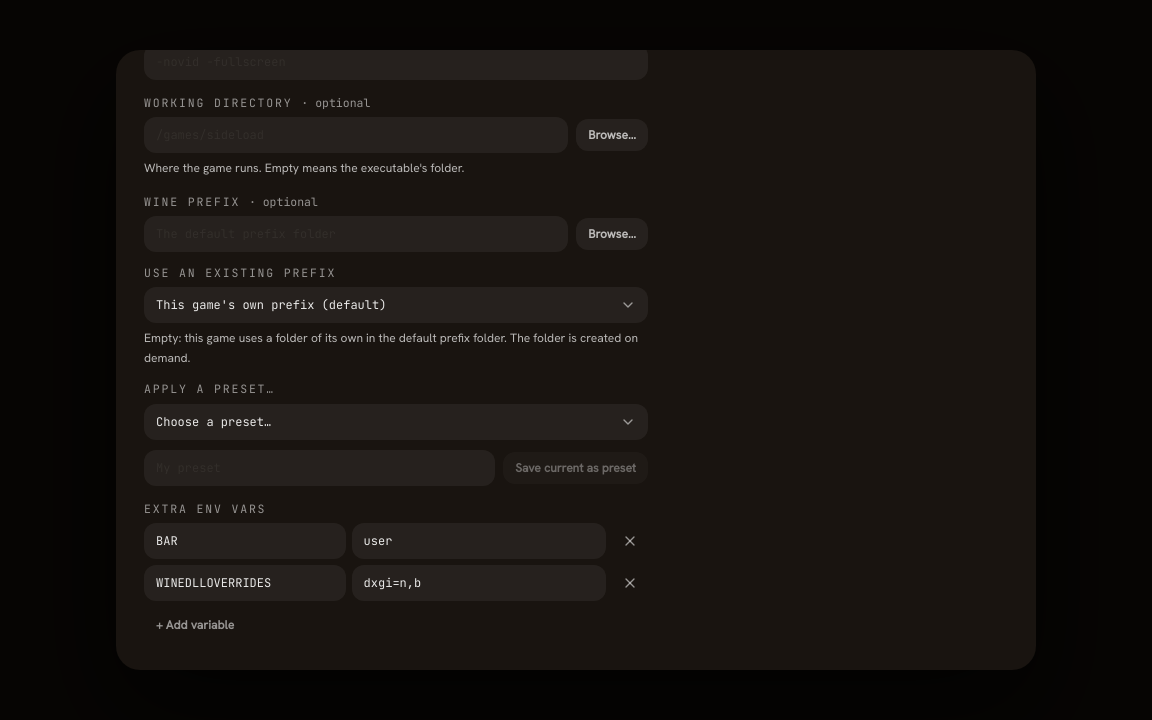
it: Saving and deleting presets › saves the current settings as a user preset
This screenshot has width=1152, height=720.
(page scrolled)
Type "Mine" into the field named "Preset name".
click(320, 468); type("Mine")  # box [144,450,495,486]
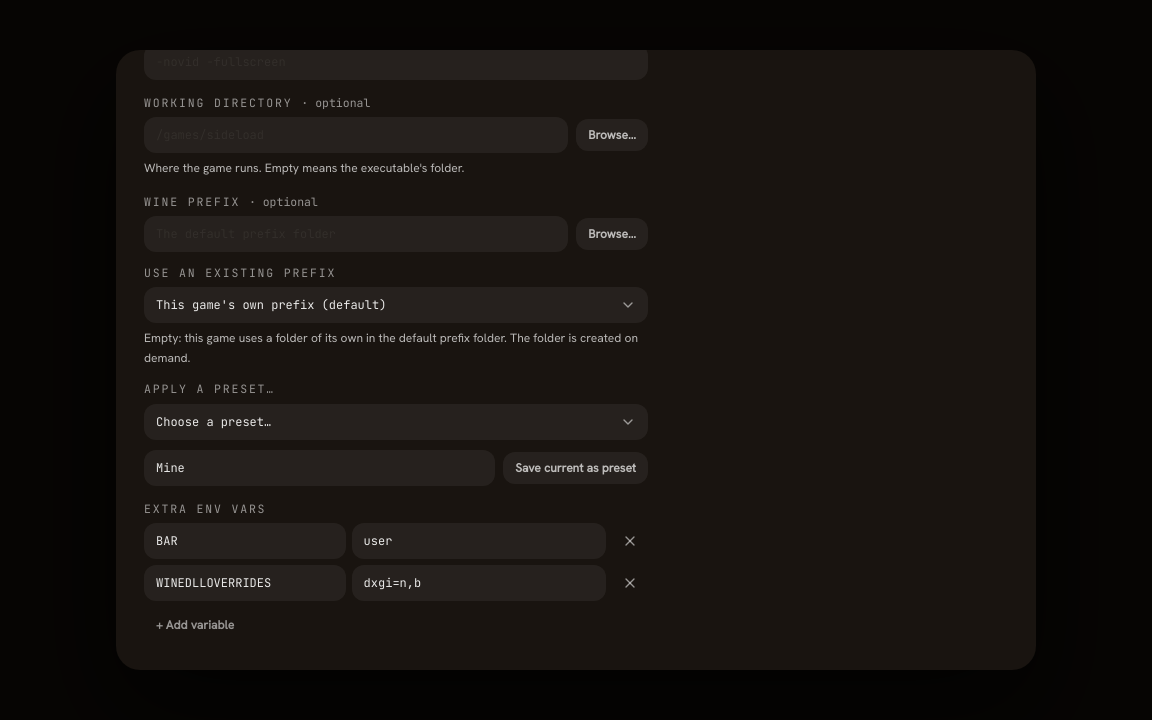
Click the button "Save current as preset".
click(576, 468)  # box [503,452,648,484]
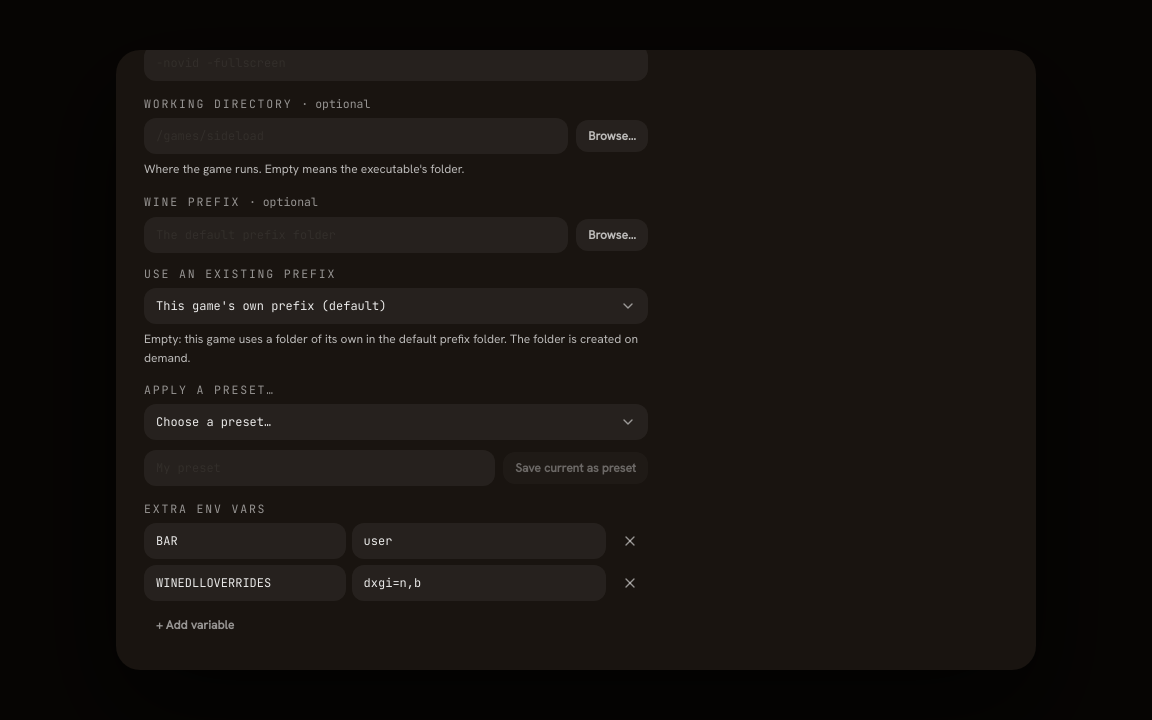
Check: the field named "Preset name" is empty, box [144,450,495,486]
